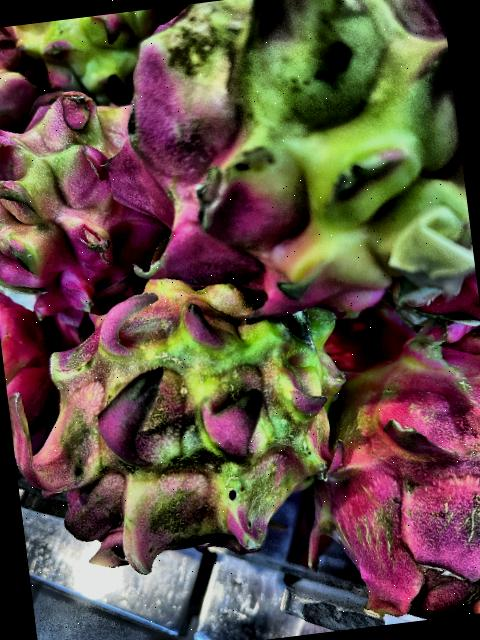buah-naga-belum-matang: (104, 0, 477, 330), (34, 267, 352, 566), (297, 297, 480, 630), (0, 87, 176, 315), (0, 9, 158, 108)
